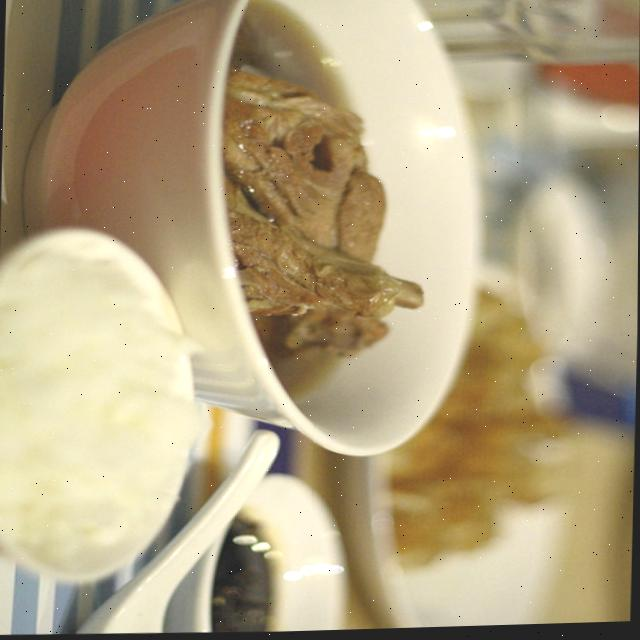汤锅炖物: (218, 0, 468, 435)
